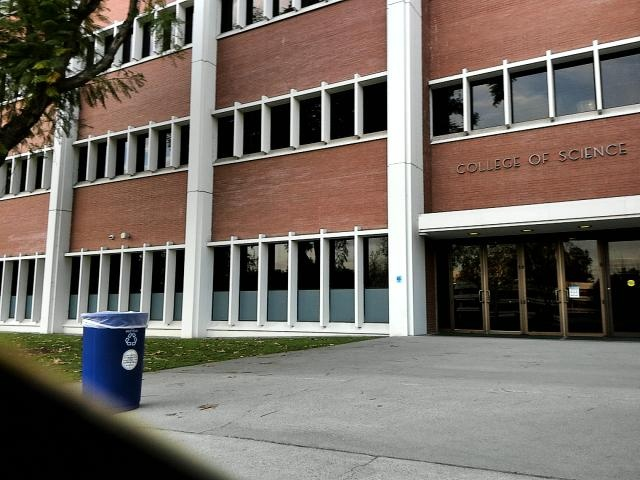trashcan_open: (76, 306, 148, 411)
